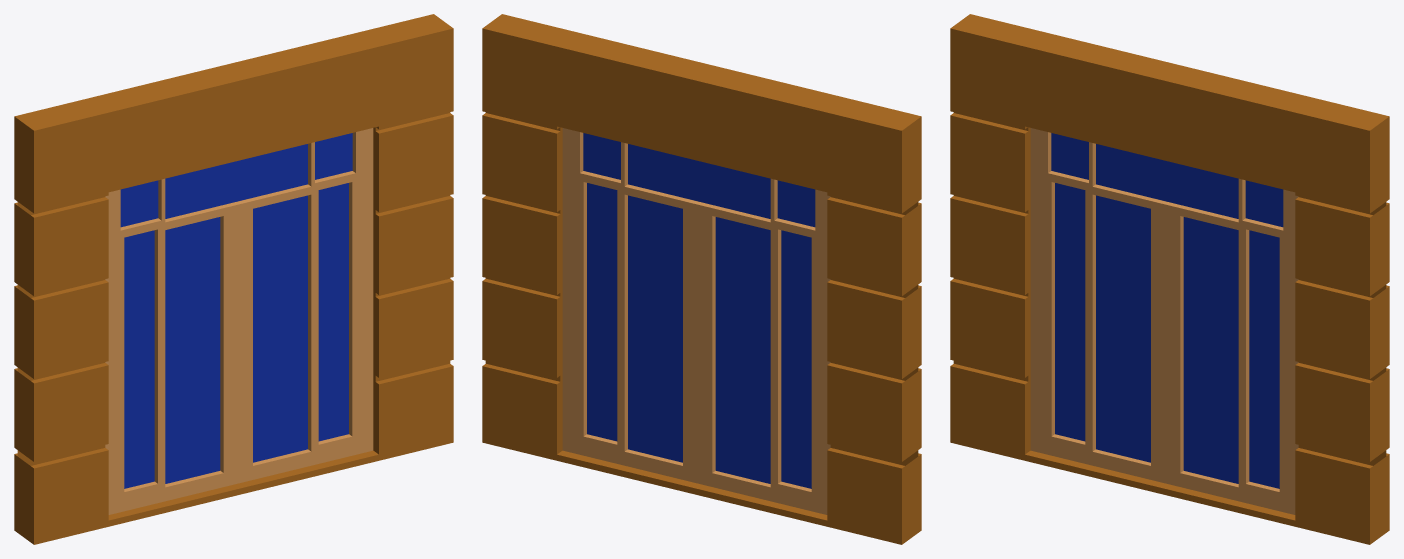
File: Window04_house5.obj
The picture shows the model from 3 angles, left to right: view 1: azimuth 30°, elevation 25°; view 2: azimuth 150°, elevation 25°; view 3: azimuth 330°, elevation 25°; orthographic projection.
Parts seen in each view (by area): view 1: Window04_house05_Cube.017; view 2: Window04_house05_Cube.017; view 3: Window04_house05_Cube.017.
Part boxes in pixels (x1,y1,x2,y2): Window04_house05_Cube.017: (14,14,453,544); Window04_house05_Cube.017: (482,14,921,544); Window04_house05_Cube.017: (950,14,1389,544).
Bounding box in the file's own units: 3.1 × 2.92 × 0.2527.
